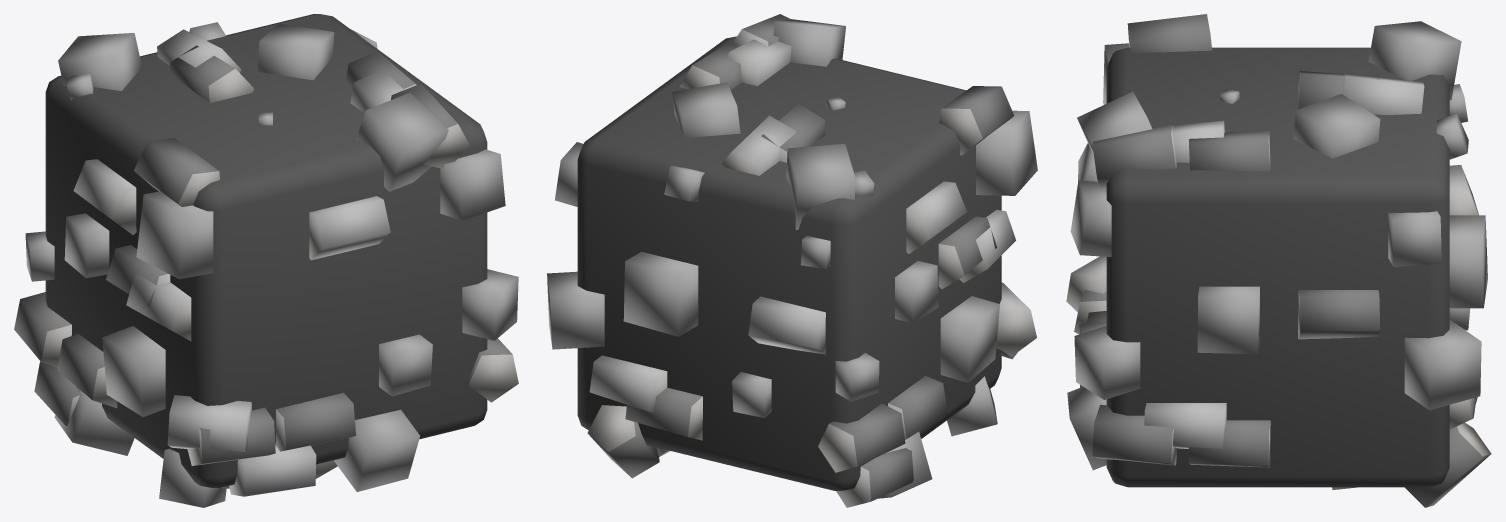
File: Trash_Cube_L1.fbx
3 views of the same model, side by side, from view 1: azimuth 30°, elevation 25°; view 2: azimuth 150°, elevation 25°; view 3: azimuth 270°, elevation 25° (orthographic). The views are drawn at different scales.
Parts seen in each view (by area): view 1: Trash Cube; view 2: Trash Cube; view 3: Trash Cube.
Boxes of the visible parts, x1,y1,x2,y2 form: Trash Cube: [14, 14, 518, 507]; Trash Cube: [547, 14, 1037, 507]; Trash Cube: [1066, 14, 1491, 507].
Size of the model in its own units: 98.99 by 98.44 by 98.78.
